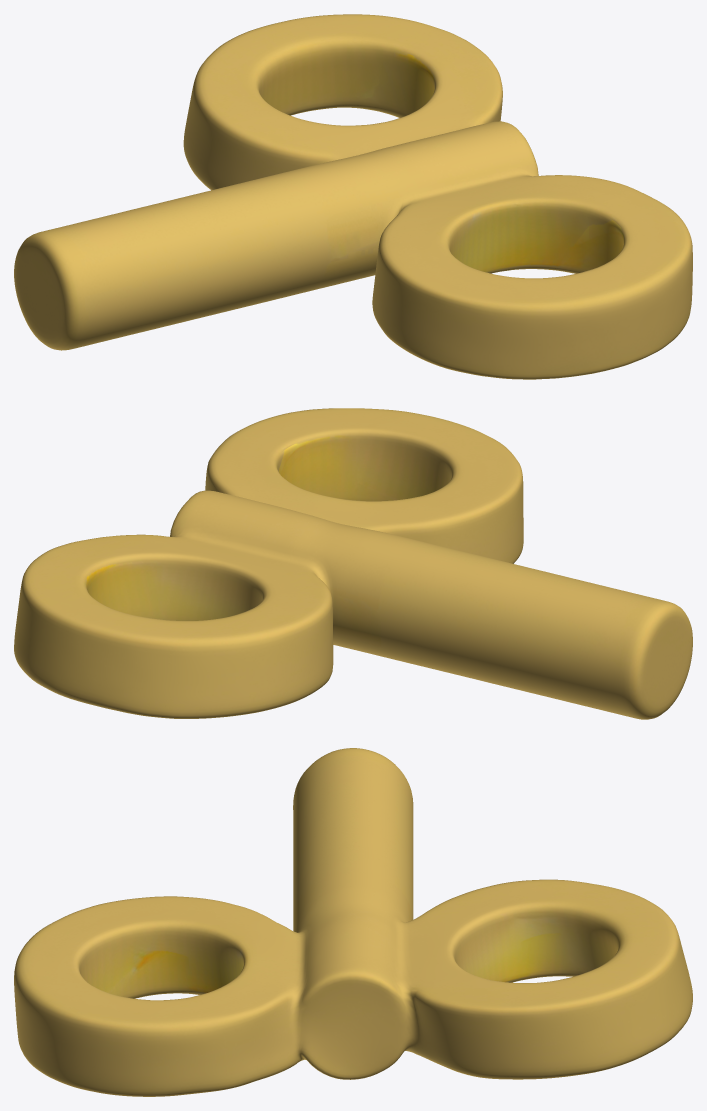
Rendered from 金色+モノグラム+3dモデル.fbx.
The picture shows the model from 3 angles, top to bottom: view 1: azimuth 30°, elevation 25°; view 2: azimuth 150°, elevation 25°; view 3: azimuth 270°, elevation 25°; orthographic projection.
Visible parts, largest first — view 1: tripo_node_f17750af; view 2: tripo_node_f17750af; view 3: tripo_node_f17750af.
Boxes of the visible parts, x1,y1,x2,y2 form: tripo_node_f17750af: (14, 14, 692, 379); tripo_node_f17750af: (14, 408, 692, 719); tripo_node_f17750af: (14, 748, 692, 1096).
Size of the model in its own units: 0.9009 by 0.1768 by 0.9999.
1 material, 1 textured.
